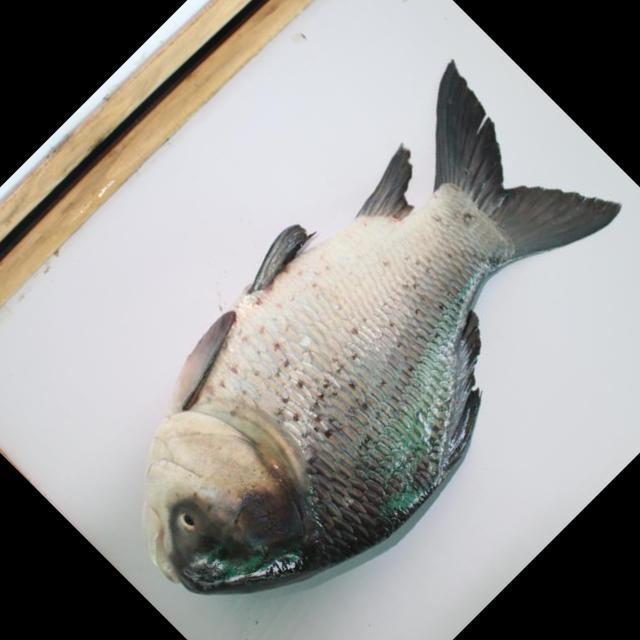Catla: (144, 56, 625, 604)
